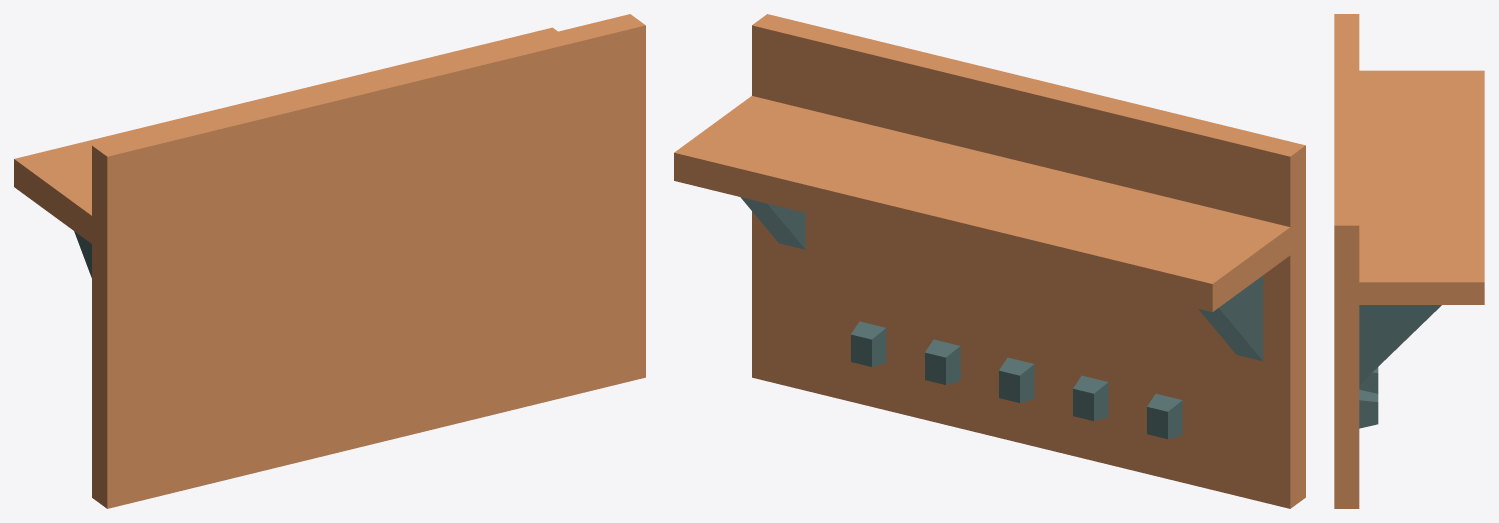
The model's file is Decor_Coat_Rack.glb.
3 renders of one model, left to right at view 1: azimuth 30°, elevation 25°; view 2: azimuth 150°, elevation 25°; view 3: azimuth 270°, elevation 25°, orthographic. The views are drawn at different scales.
Visible parts, largest first — view 1: coatRack; view 2: coatRack; view 3: coatRack.
Boxes of the visible parts, x1,y1,x2,y2 form: coatRack: (14, 14, 645, 508); coatRack: (674, 14, 1305, 508); coatRack: (1334, 14, 1484, 508).
Bounding box in the file's own units: 0.448 × 0.28 × 0.1344.
